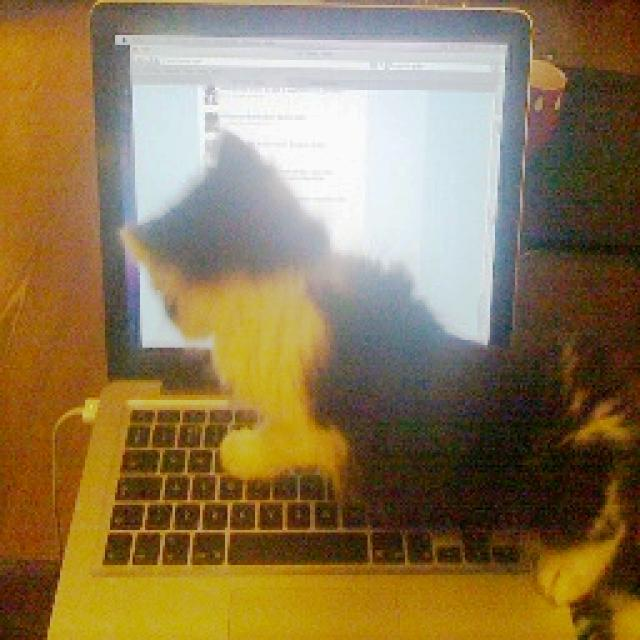cat: (119, 128, 632, 608)
